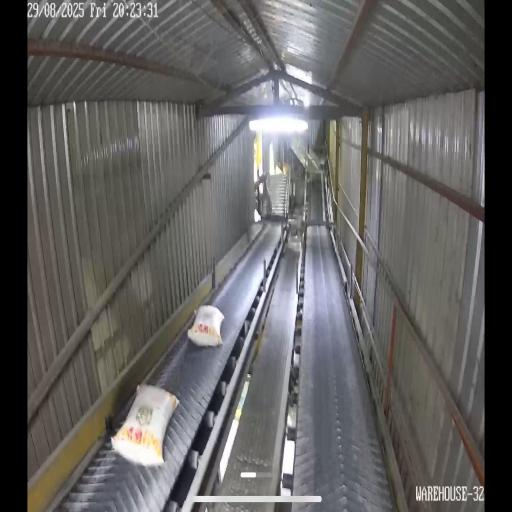c-belt-sack-count: (112, 385, 179, 466), (188, 305, 224, 346)
